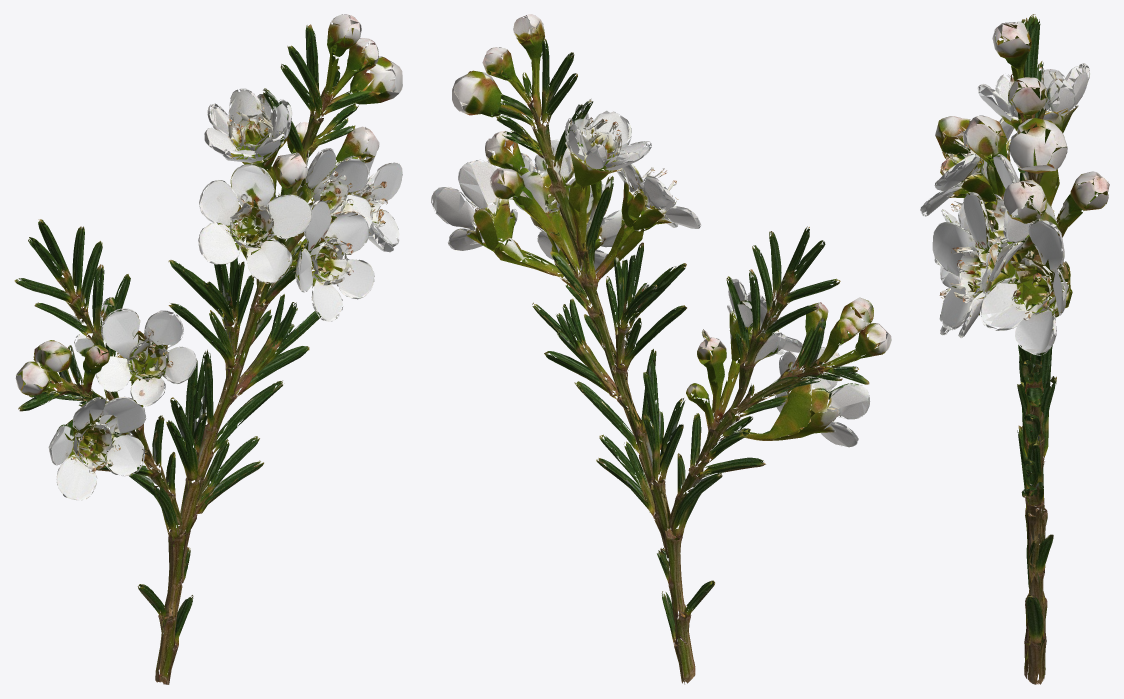
The model's file is waxflower.glb.
3 views of the same model, side by side, from view 1: azimuth 30°, elevation 25°; view 2: azimuth 150°, elevation 25°; view 3: azimuth 270°, elevation 25° (orthographic). The views are drawn at different scales.
Parts seen in each view (by area): view 1: waxflower; view 2: waxflower; view 3: waxflower.
Boxes of the visible parts, box(x1,y1,x2,y2) form: waxflower: box(14, 14, 402, 684); waxflower: box(431, 14, 891, 684); waxflower: box(920, 14, 1109, 684).
Bounding box in the file's own units: 0.7012 × 1 × 0.2255.
1 material, 1 textured.
